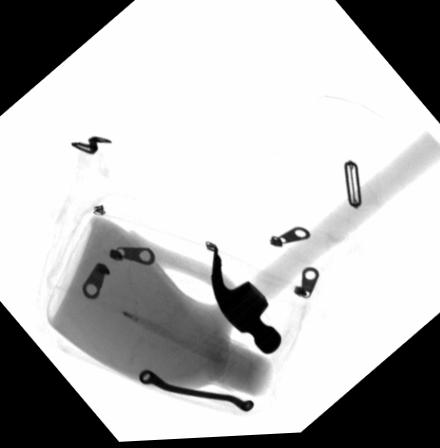Hammer: (210, 134, 440, 356)
Wrench: (137, 369, 252, 415)
